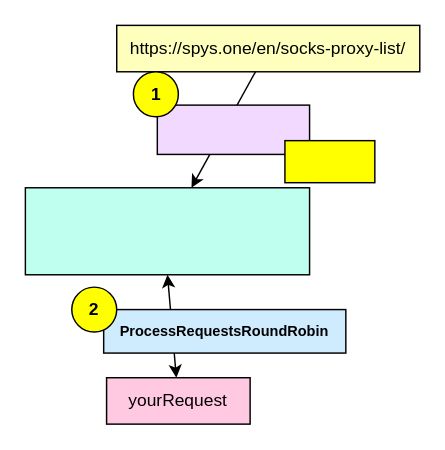
The diagram is 445 pixels wide and 450 high, and some of its shapes have lost their labels. The shapes that lost their labels are listed below. From the top down, each one's centre as x and y in pixels, then its label:
At point 233,129: "InitializeProxyClients".
At point 329,161: "retrieves proxy addresses".
At point 167,230: "ProxyAddressesCrawler{}".
